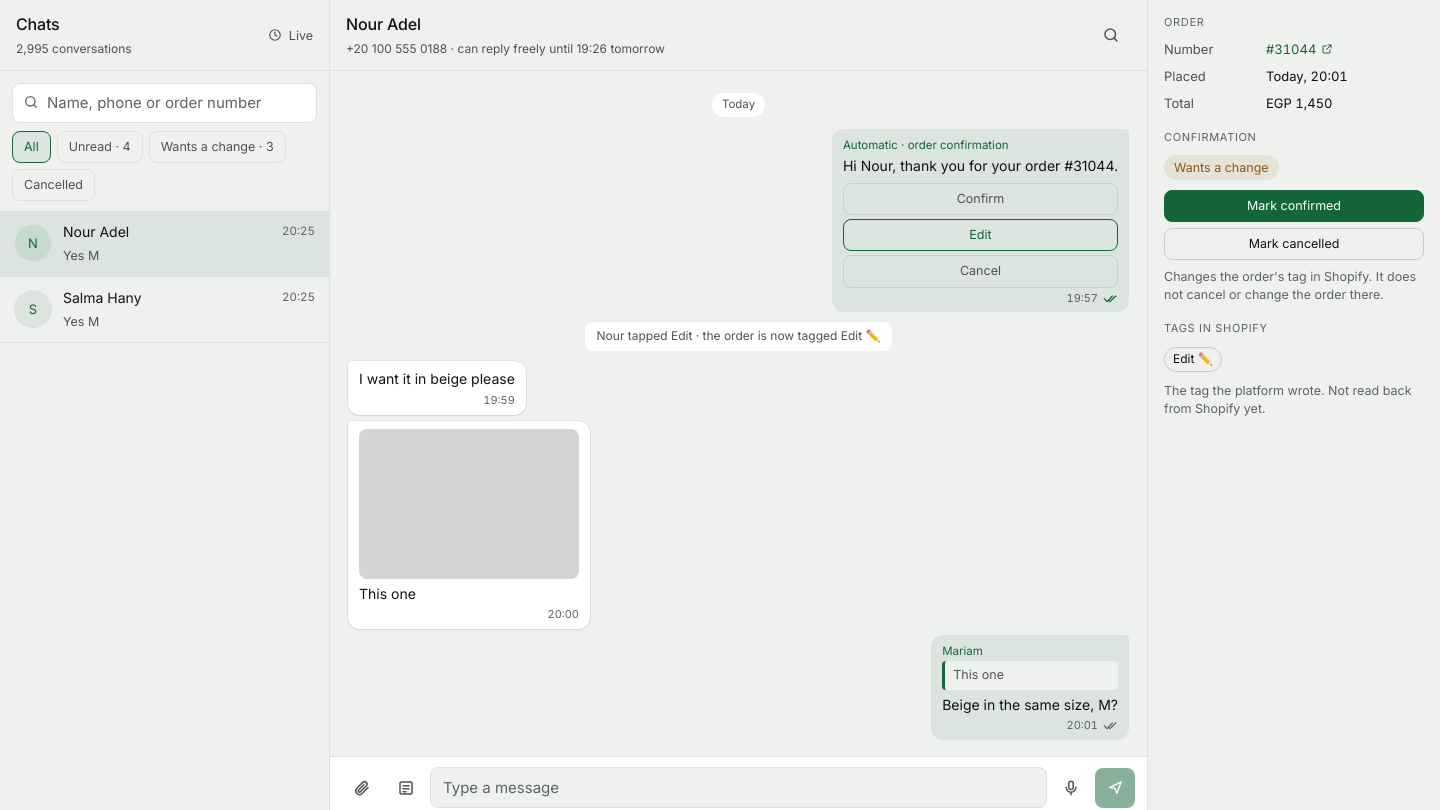
Test: an open chat › records a voice note and sends it as one
What coordinates should you click on to do the following:
click the button named "Record a voice note"
I would click on:
 (1071, 788)
Its box is [1051,768,1091,808].
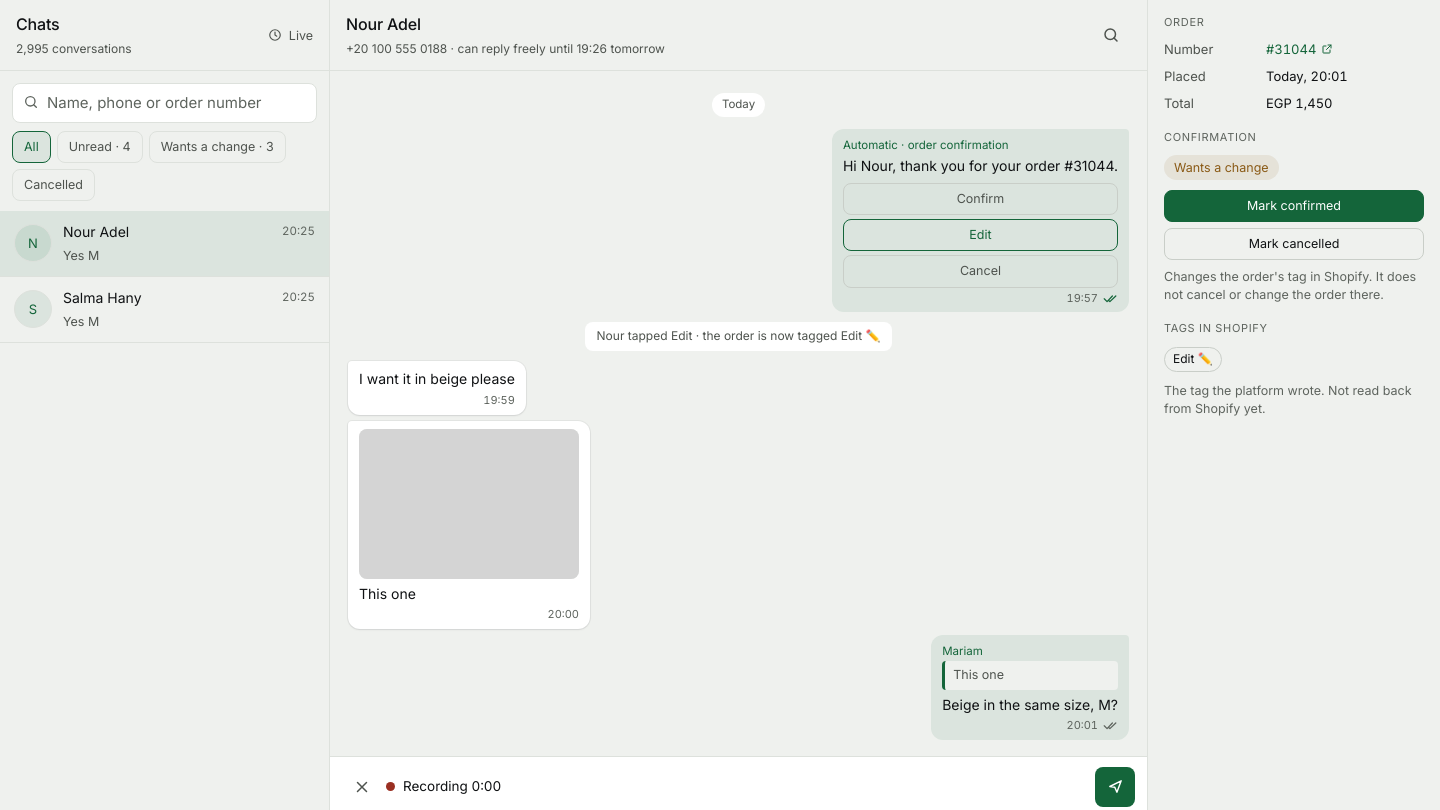
Expected: the text "Recording 0:00" is shown, [386,778,501,794]
What coordinates should you click on to do the following:
click the button named "Send the voice note"
I would click on:
 (1115, 787)
Its box is [1095,767,1135,807].
(page scrolled)
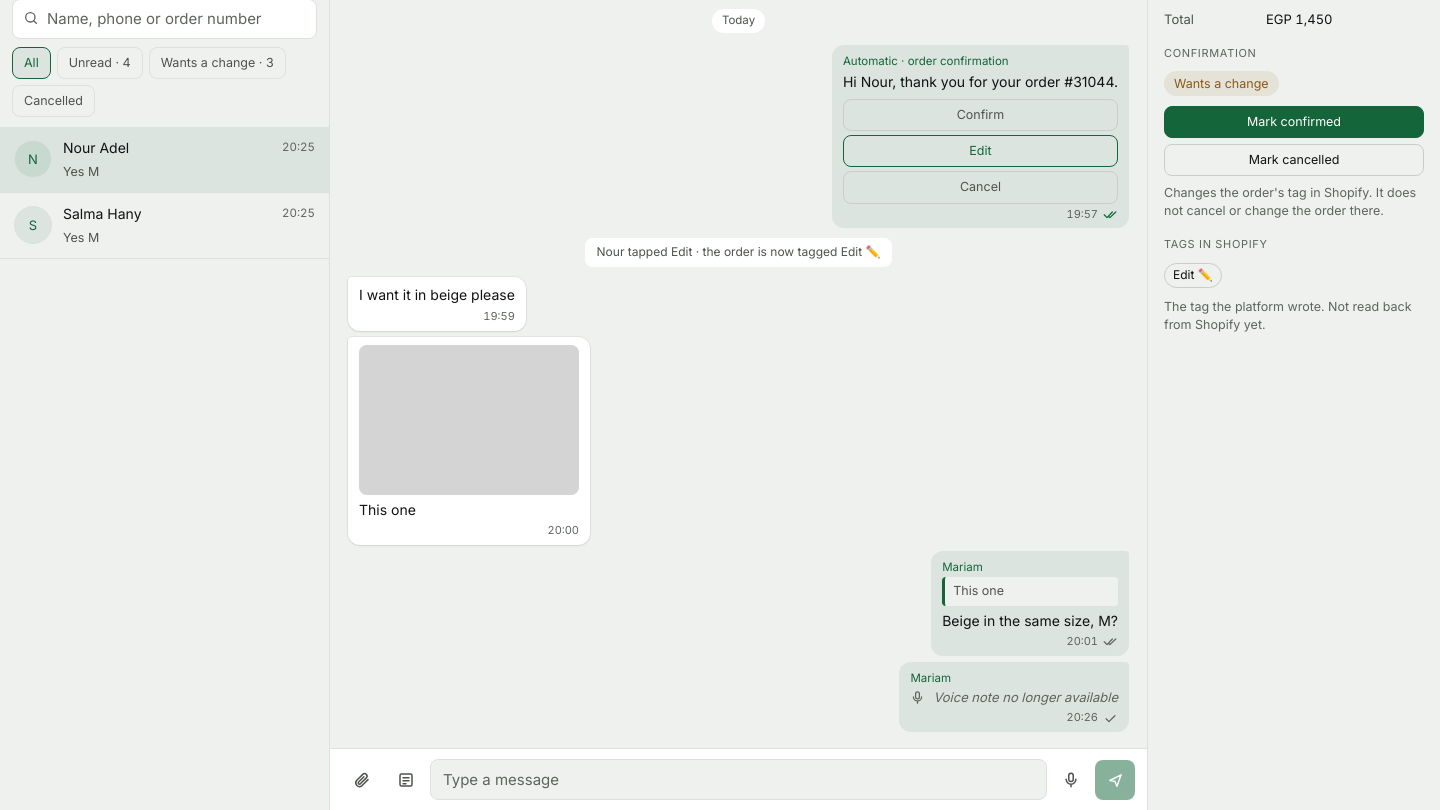
Expected: the text box labelled "message" is shown, [430,759,1047,800]
